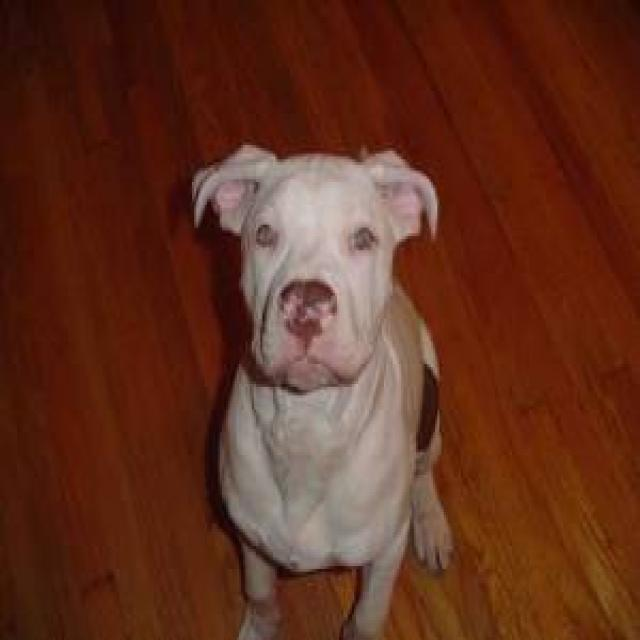dog-american_pit_bull_terrier: (183, 137, 461, 634)
